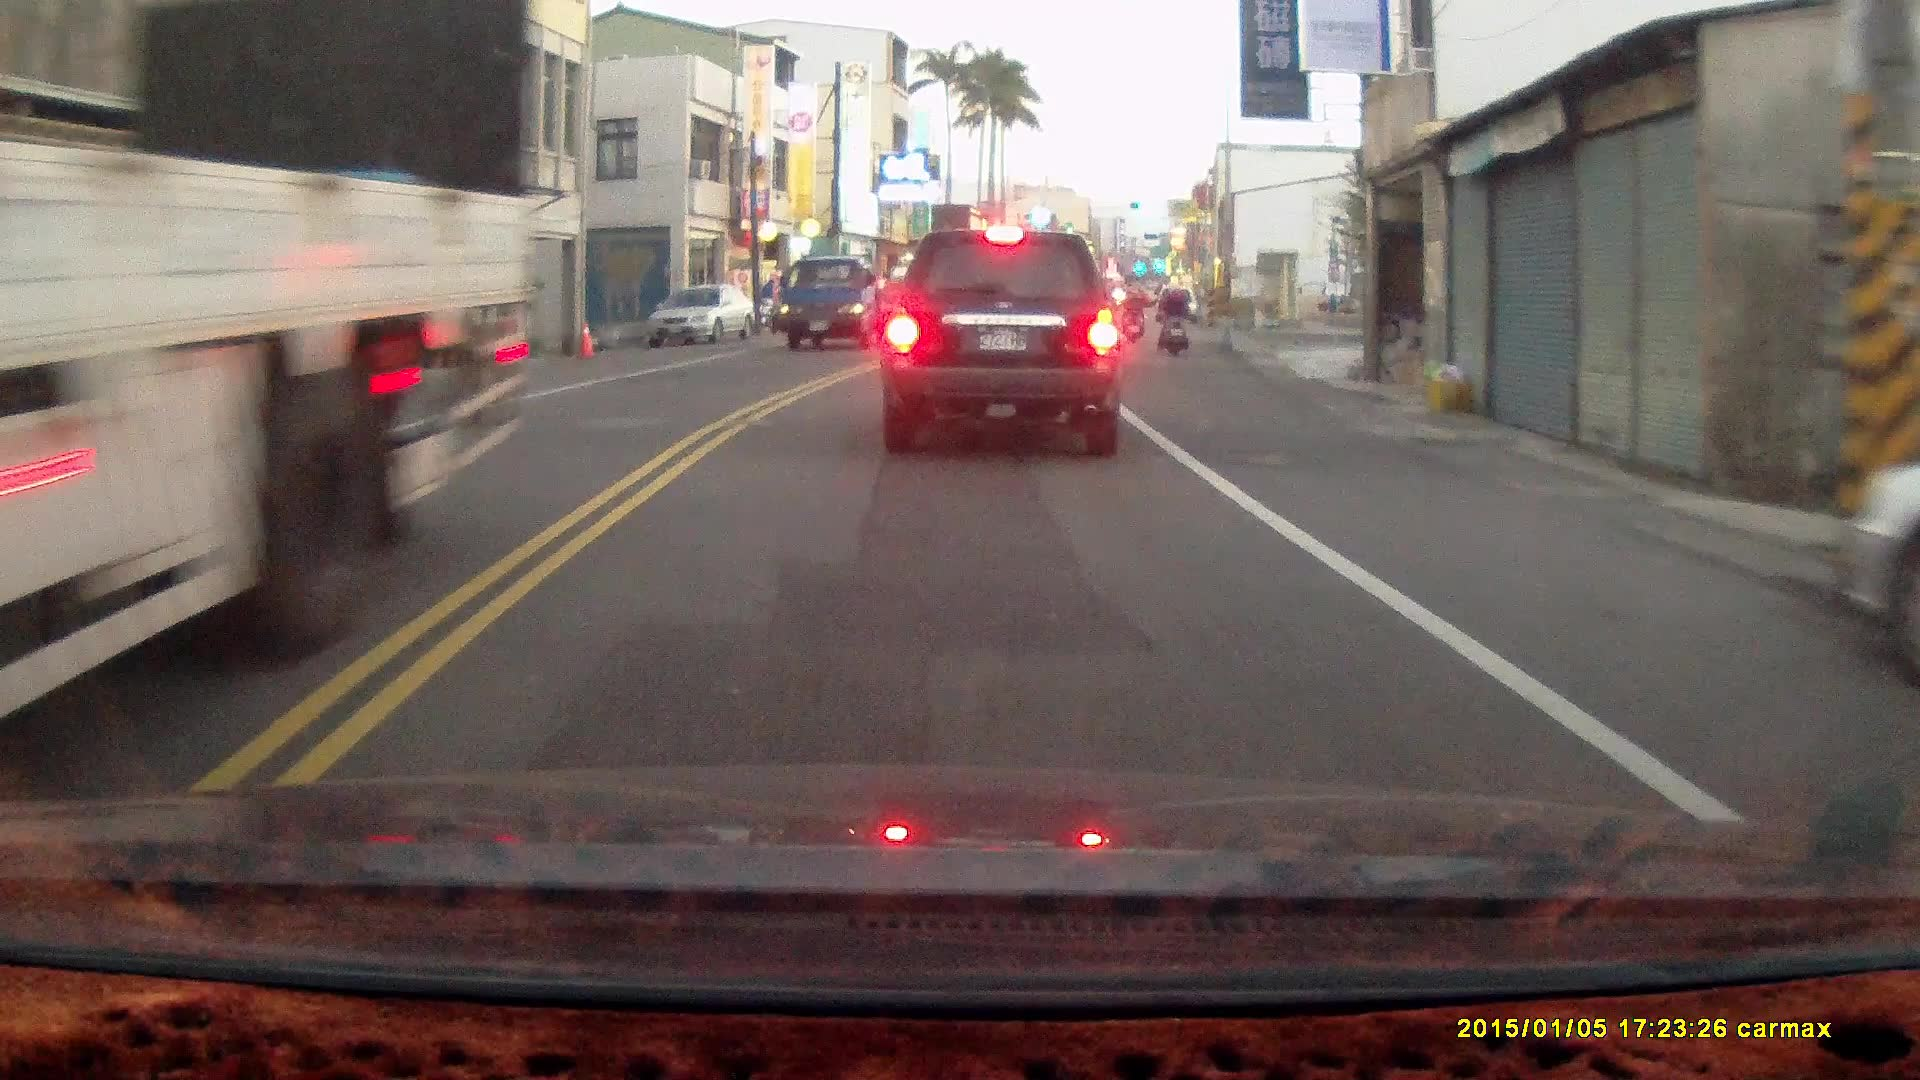rider: (1155, 278, 1186, 359), (1118, 280, 1145, 345)
vehicle: (0, 0, 535, 790), (879, 227, 1127, 459), (1828, 461, 1920, 674), (774, 256, 898, 356), (645, 285, 757, 348)
